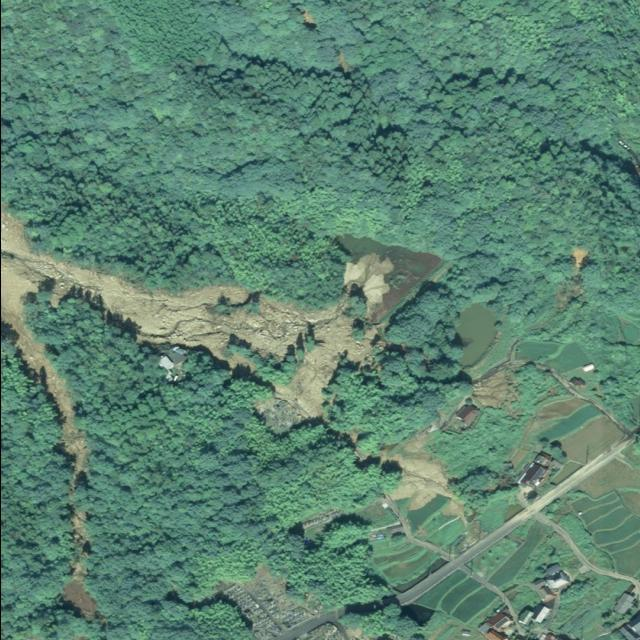landslide: (0, 212, 369, 465), (389, 453, 453, 511), (343, 254, 393, 305), (473, 372, 508, 408)
